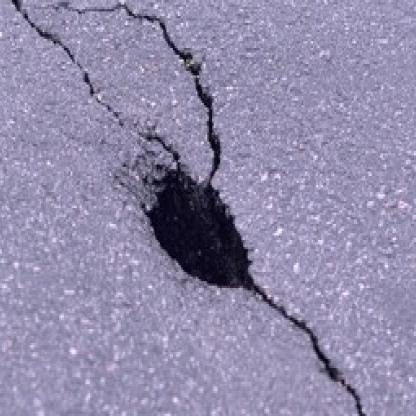pothole: (134, 144, 261, 297)
